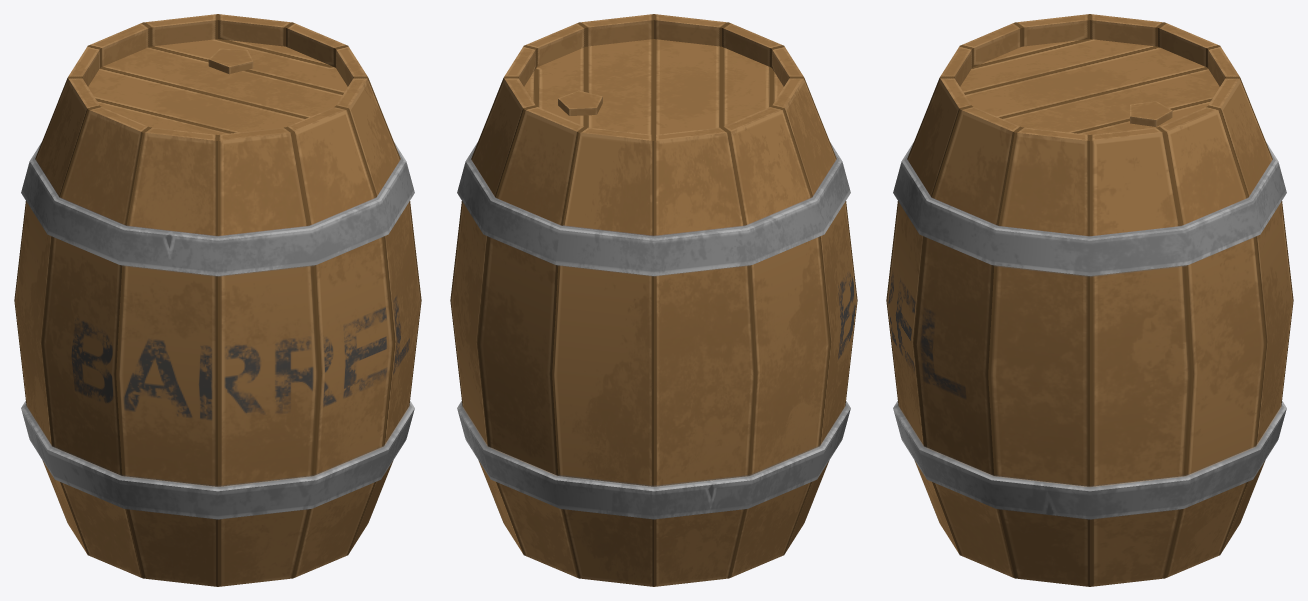
File: Barrel.fbx
3 views of the same model, side by side, from view 1: azimuth 30°, elevation 25°; view 2: azimuth 150°, elevation 25°; view 3: azimuth 270°, elevation 25° (orthographic).
Visible parts, largest first — view 1: Barrel; view 2: Barrel; view 3: Barrel.
Part boxes in pixels (<box>): Barrel: <box>14,14,421,586</box>; Barrel: <box>450,14,857,586</box>; Barrel: <box>886,14,1293,586</box>.
Size of the model in its own units: 74.5 by 90 by 74.5.
